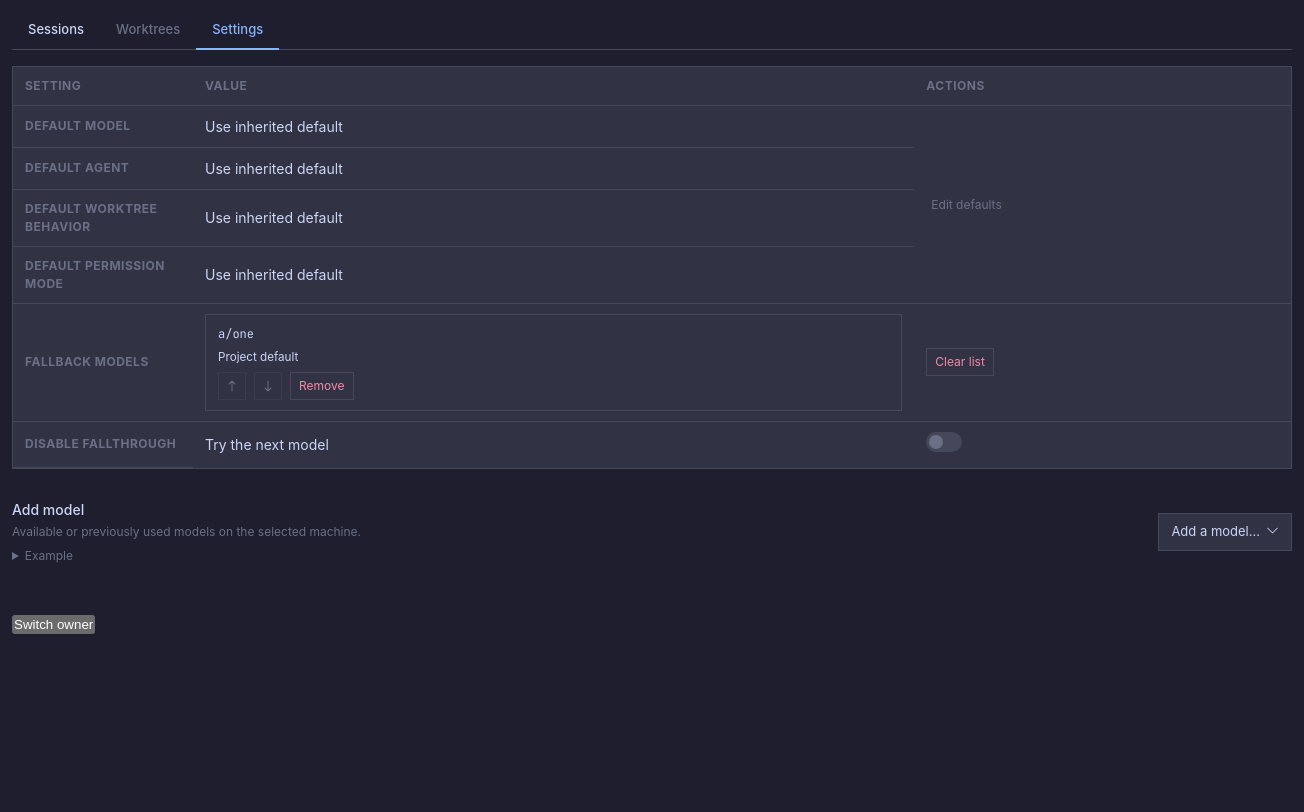
ProjectSettingsView › reconciles after a failed save without hiding the failure
Click the button "Clear list" at {"x": 960, "y": 362}, box top-left (926, 348), bottom-right (994, 376)
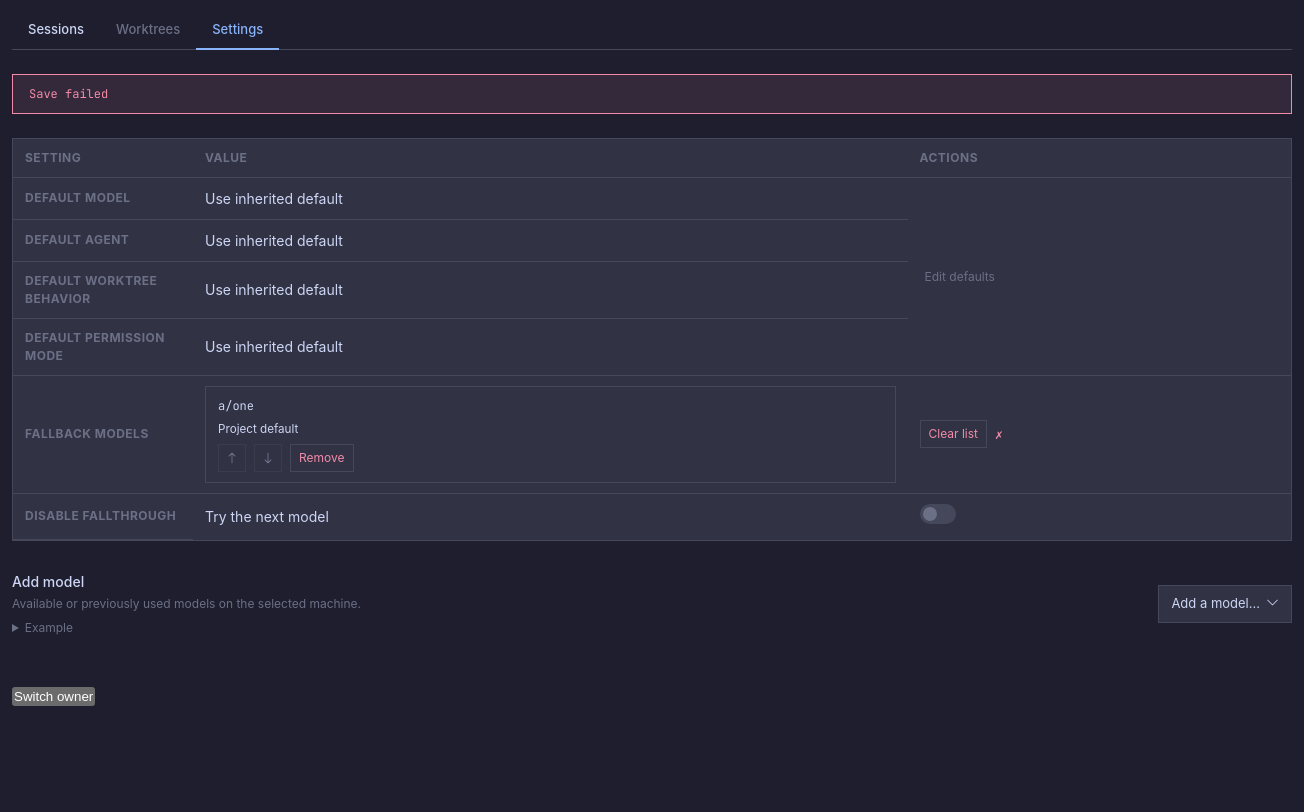
Expected: the message reads "Save failed", top-left (29, 86), bottom-right (108, 102)
